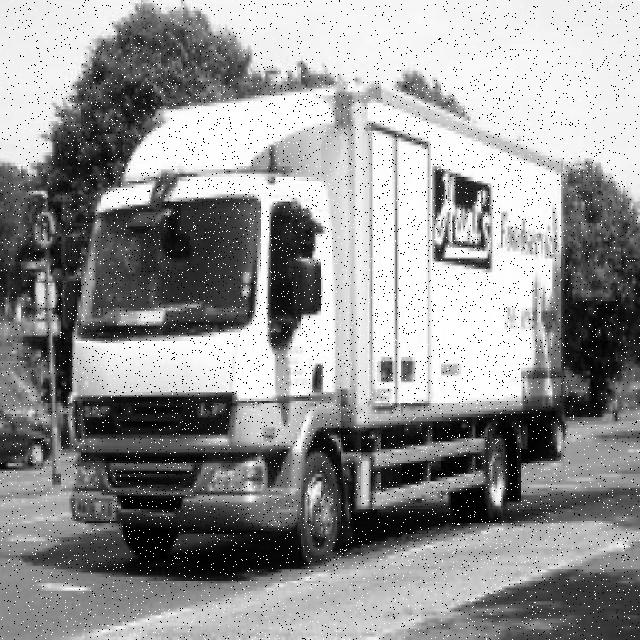Box Truck: (67, 80, 568, 568)
